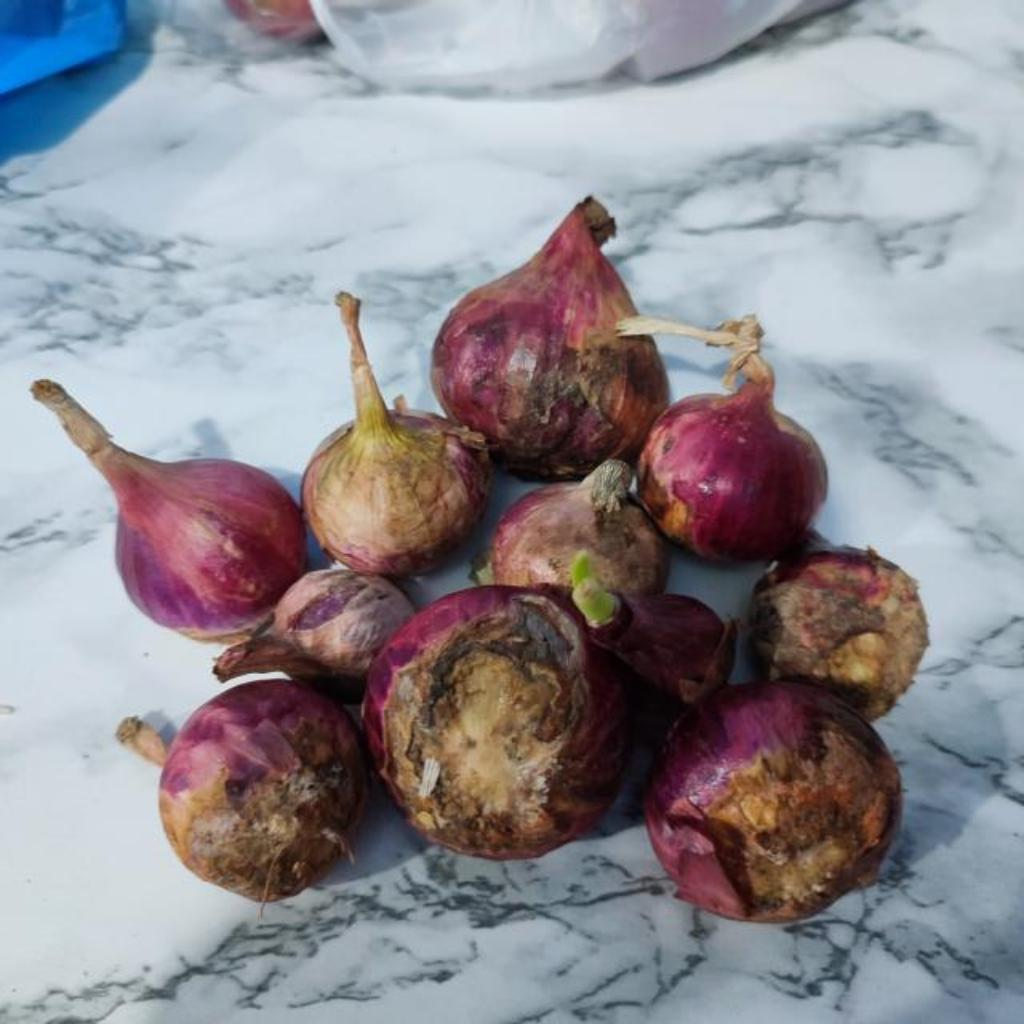Onion: (363, 590, 630, 860), (32, 379, 306, 642), (432, 195, 670, 479), (648, 683, 902, 924), (302, 293, 493, 578), (622, 315, 829, 562), (158, 680, 366, 904), (754, 549, 931, 722), (213, 570, 414, 701), (490, 461, 667, 593)
